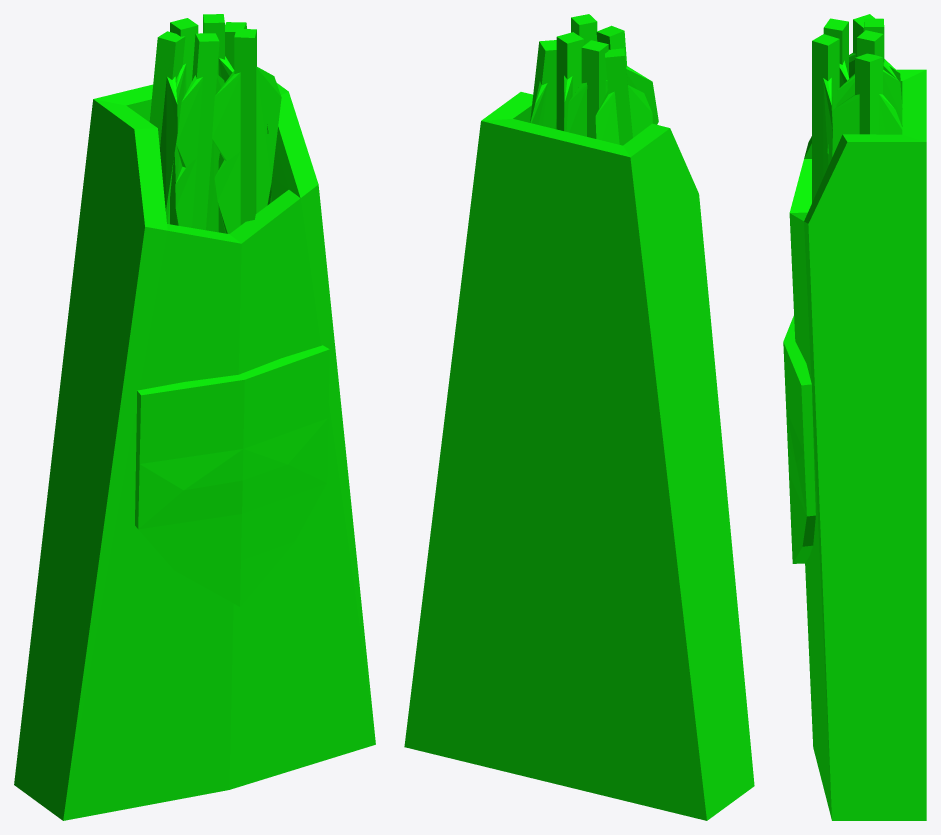
The model's file is SM_Quiver_Bolt_Full_B_Fantasy.fbx.
3 renders of one model, left to right at view 1: azimuth 30°, elevation 25°; view 2: azimuth 150°, elevation 25°; view 3: azimuth 270°, elevation 25°, orthographic. The views are drawn at different scales.
Parts seen in each view (by area): view 1: quiver-bolt-full-b-fantasy; view 2: quiver-bolt-full-b-fantasy; view 3: quiver-bolt-full-b-fantasy.
Boxes of the visible parts, x1,y1,x2,y2 form: quiver-bolt-full-b-fantasy: (14,14,375,820); quiver-bolt-full-b-fantasy: (404,14,754,820); quiver-bolt-full-b-fantasy: (783,14,926,820).
Bounding box in the file's own units: 0.148 × 0.3378 × 0.061.
